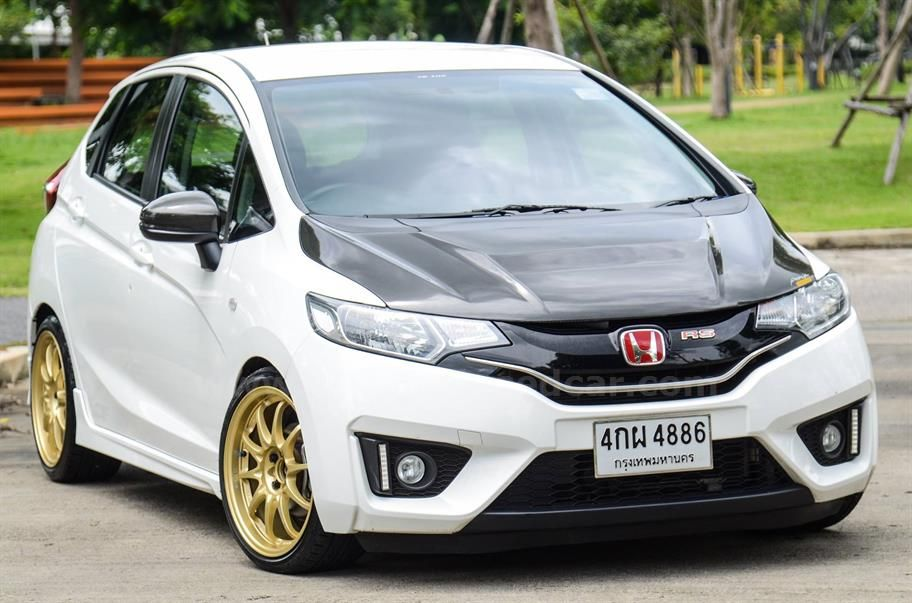sedan: (24, 38, 880, 575)
